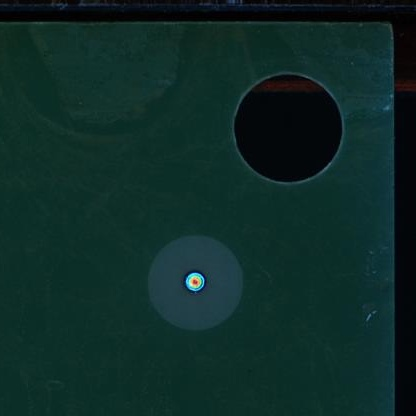spot: (182, 271, 207, 294)
